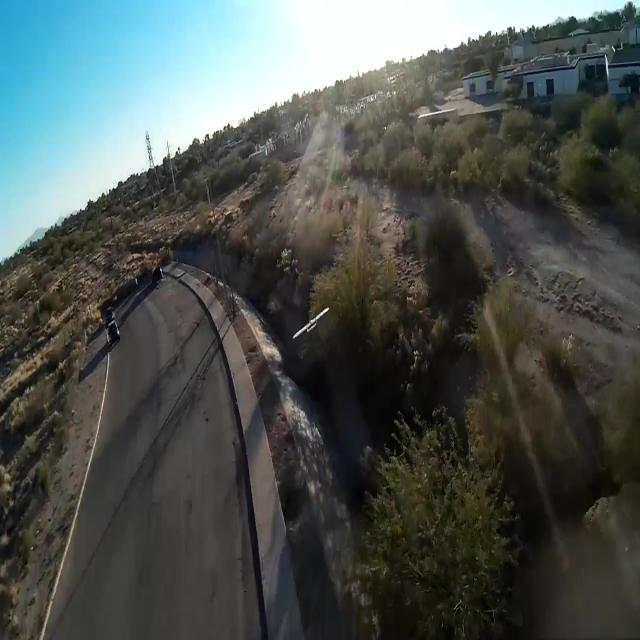iha: (291, 307, 329, 339)
